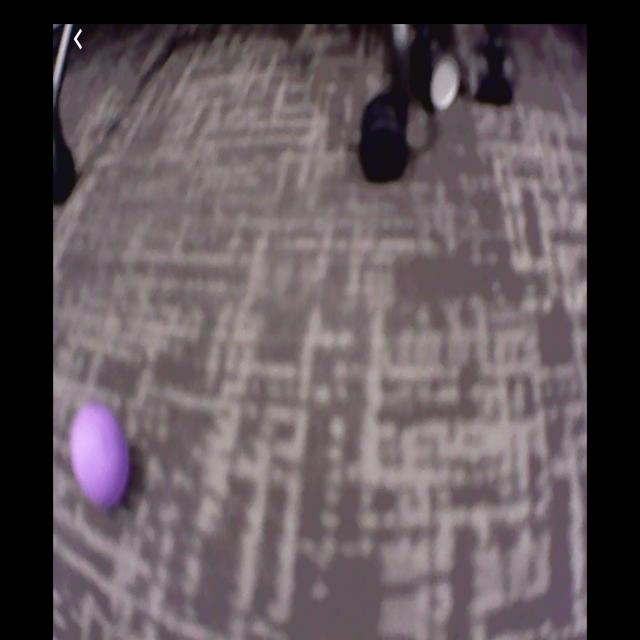ball: (69, 402, 131, 511)
